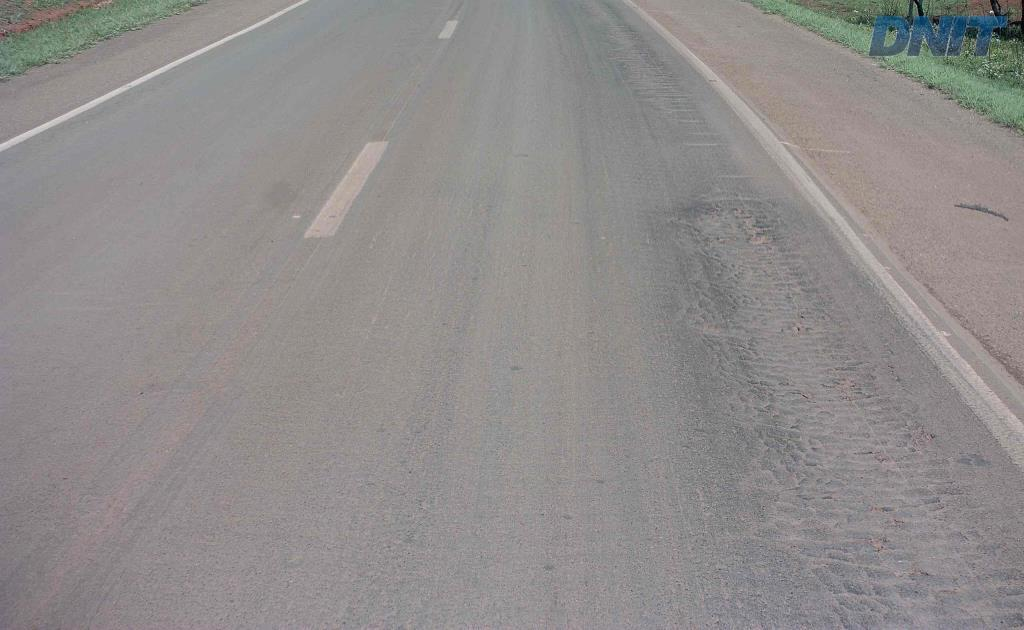crack: (699, 249, 738, 319)
pothole: (735, 208, 767, 243)
